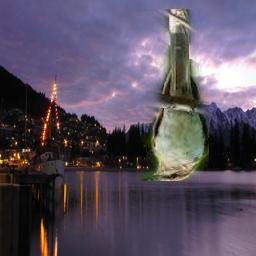Cuckoo: (139, 9, 209, 181)
